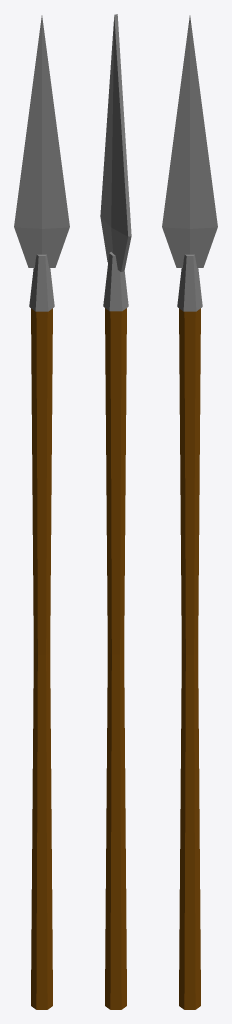
The model's file is Spear.fbx.
The picture shows the model from 3 angles, left to right: view 1: azimuth 90°, elevation 25°; view 2: azimuth 210°, elevation 25°; view 3: azimuth 270°, elevation 25°; orthographic projection.
Visible parts, largest first — view 1: SpearShaft, SpearBlade, SpearMount; view 2: SpearShaft, SpearBlade, SpearMount; view 3: SpearShaft, SpearBlade, SpearMount.
Boxes of the visible parts, box(x1,y1,x2,y2) form: SpearShaft: box(31, 308, 52, 1009); SpearBlade: box(14, 15, 69, 267); SpearMount: box(29, 254, 54, 311); SpearShaft: box(105, 308, 126, 1009); SpearBlade: box(100, 14, 131, 271); SpearMount: box(103, 252, 128, 311); SpearShaft: box(179, 308, 200, 1009); SpearBlade: box(162, 15, 217, 267); SpearMount: box(177, 254, 202, 311).
Size of the model in its own units: 3.98 by 196 by 10.
Materials: 2 (2 with a texture image).
